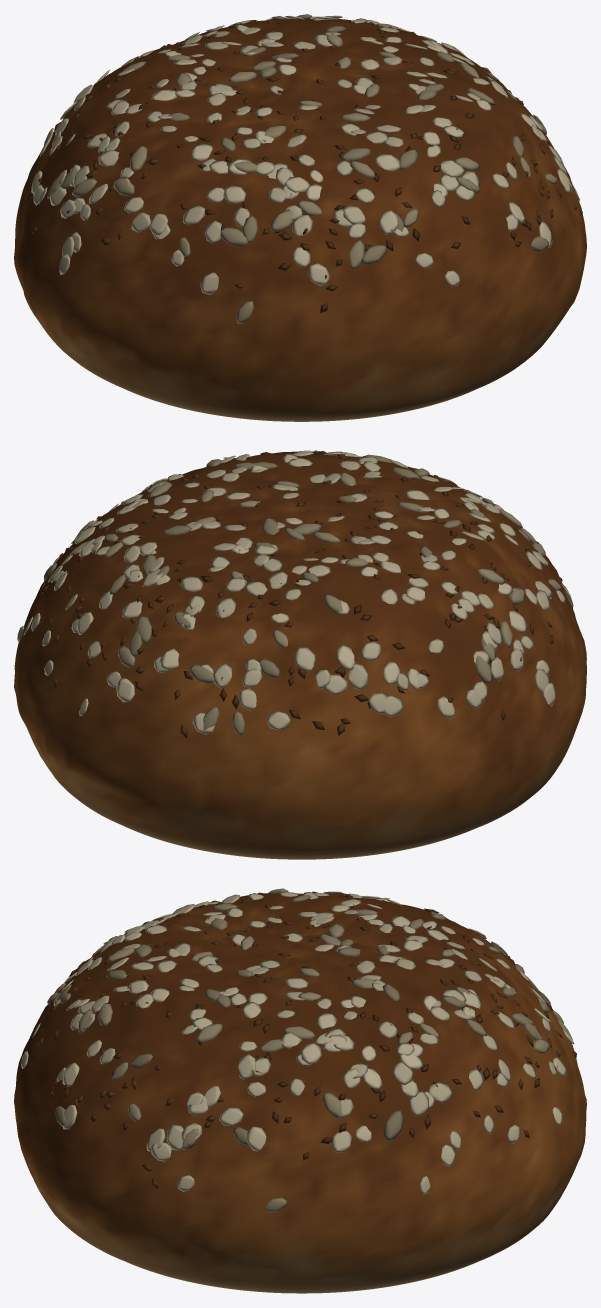
File: sommerkorn-500g.glb
3 views of the same model, one above another, from view 1: azimuth 30°, elevation 25°; view 2: azimuth 150°, elevation 25°; view 3: azimuth 270°, elevation 25° (orthographic).
Parts seen in each view (by area): view 1: sommerkorn-500g; view 2: sommerkorn-500g; view 3: sommerkorn-500g.
Part boxes in pixels (box(x1,y1,x2,y2)): sommerkorn-500g: box(14, 14, 586, 421); sommerkorn-500g: box(14, 450, 586, 859); sommerkorn-500g: box(14, 888, 586, 1293).
Size of the model in its own units: 0.18 by 0.0864 by 0.18.
